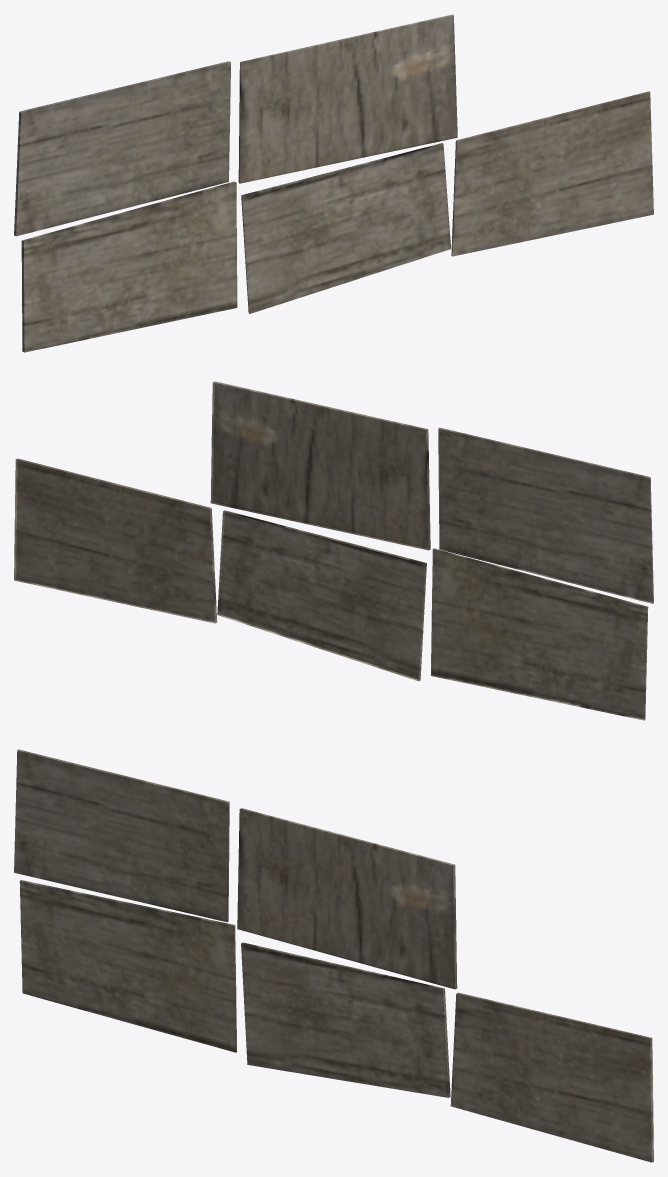
Rendered from BrownBoardSet_01.FBX.
3 renders of one model, top to bottom at view 1: azimuth 30°, elevation 25°; view 2: azimuth 150°, elevation 25°; view 3: azimuth 330°, elevation 25°, orthographic.
Parts seen in each view (by area): view 1: BrownBoardSmall_05, BrownBoardSmall_04, BrownBoardSmall_01, BrownBoardSmall_03, BrownBoardSmall_02; view 2: BrownBoardSmall_05, BrownBoardSmall_04, BrownBoardSmall_01, BrownBoardSmall_03, BrownBoardSmall_02; view 3: BrownBoardSmall_05, BrownBoardSmall_04, BrownBoardSmall_01, BrownBoardSmall_03, BrownBoardSmall_02.
Boxes of the visible parts, <box> form: BrownBoardSmall_05: <box>238,14,457,183</box>; BrownBoardSmall_04: <box>14,61,230,236</box>; BrownBoardSmall_01: <box>21,181,237,352</box>; BrownBoardSmall_03: <box>451,91,653,256</box>; BrownBoardSmall_02: <box>241,143,450,313</box>; BrownBoardSmall_05: <box>210,381,430,550</box>; BrownBoardSmall_04: <box>438,427,653,603</box>; BrownBoardSmall_01: <box>431,548,648,720</box>; BrownBoardSmall_03: <box>14,458,217,623</box>; BrownBoardSmall_02: <box>217,510,426,681</box>; BrownBoardSmall_05: <box>237,808,457,989</box>; BrownBoardSmall_04: <box>14,749,229,922</box>; BrownBoardSmall_01: <box>19,880,237,1052</box>; BrownBoardSmall_03: <box>450,992,653,1162</box>; BrownBoardSmall_02: <box>241,942,450,1097</box>.
Bounding box in the file's own units: 374 × 144 × 2.73.
